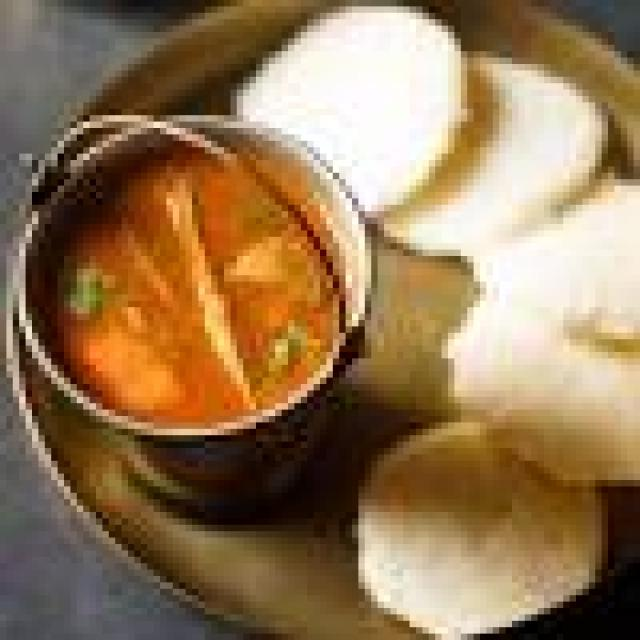Wet Waste: (352, 410, 595, 627), (224, 7, 454, 212), (372, 32, 582, 250), (442, 268, 634, 474), (492, 179, 634, 320)
